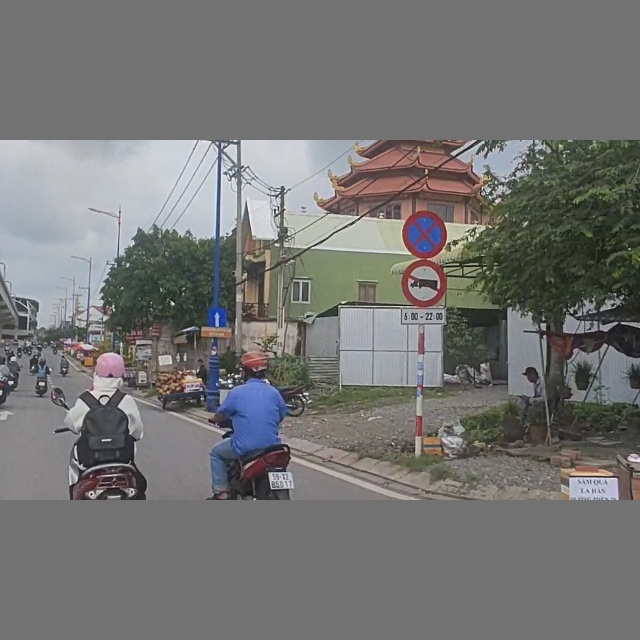B.8a: (401, 259, 446, 307)
I.407a: (207, 308, 229, 329)
P.130: (403, 210, 447, 258)
